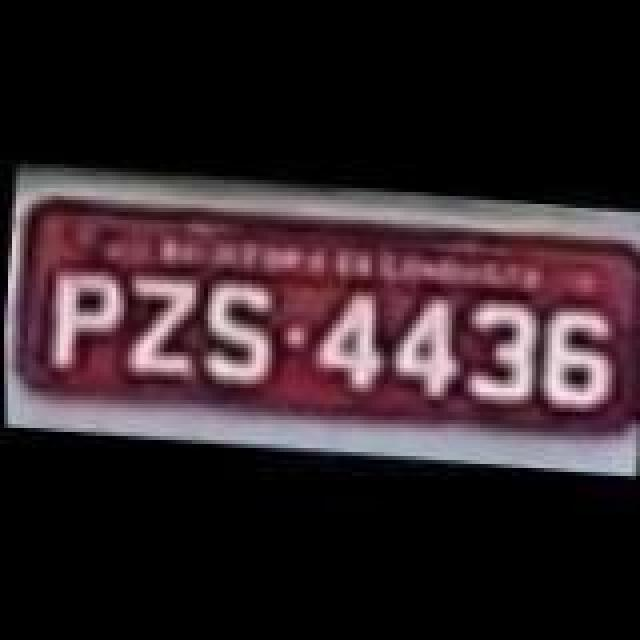3: (456, 300, 544, 416)
4: (378, 292, 462, 408), (308, 286, 388, 398)
6: (538, 294, 622, 418)
P: (38, 260, 122, 380)
S: (192, 270, 280, 390)
Z: (114, 272, 206, 384)
